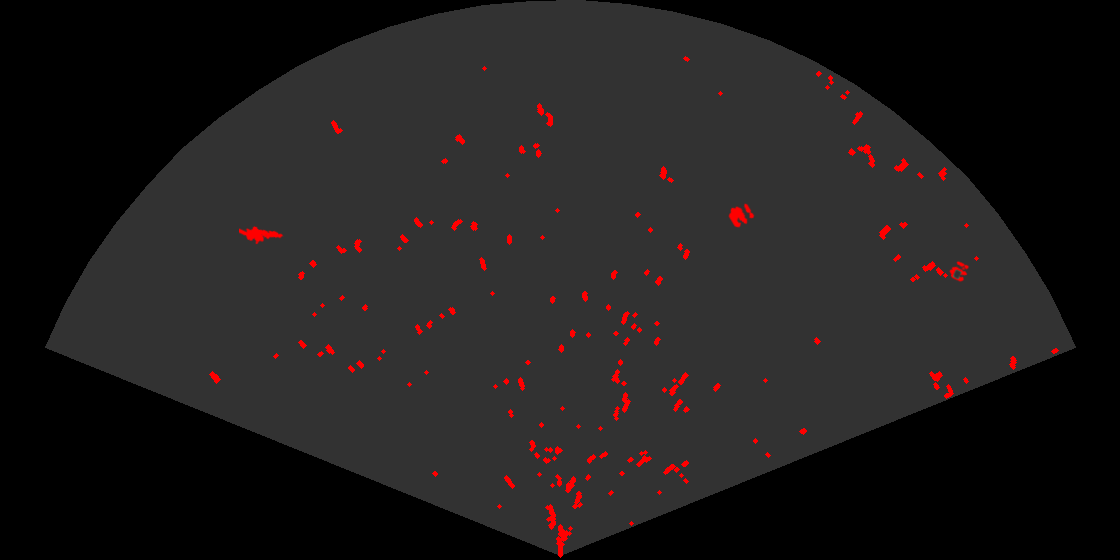ball: (727, 202, 756, 229), (948, 259, 971, 284)
frogman: (239, 225, 284, 246)
